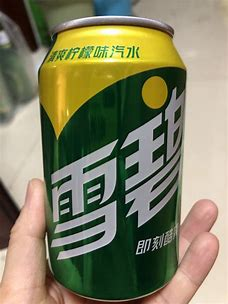Sprite: (40, 15, 182, 303)
